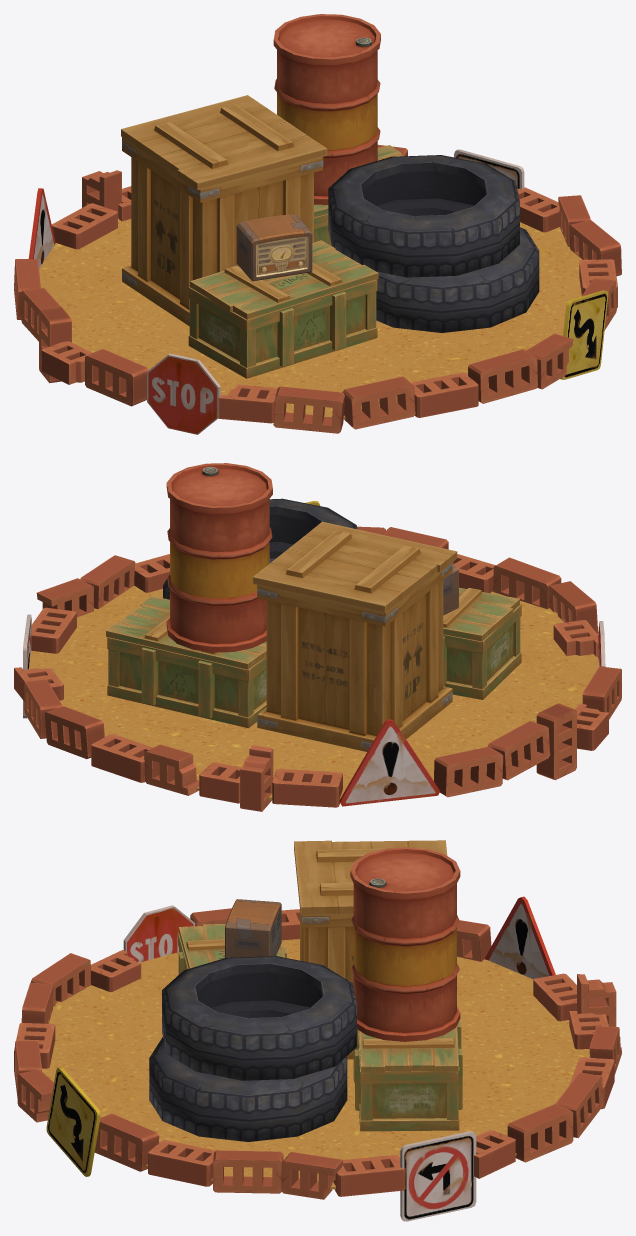
The model's file is Props.FBX.
3 renders of one model, top to bottom at view 1: azimuth 30°, elevation 25°; view 2: azimuth 150°, elevation 25°; view 3: azimuth 270°, elevation 25°, orthographic. The views are drawn at different scales.
Visible parts, largest first — view 1: Boxes, Bricks, Tires, Sand, Barrel, Signs, Radio; view 2: Boxes, Bricks, Sand, Barrel, Signs, Tires, Radio; view 3: Sand, Bricks, Tires, Boxes, Barrel, Signs, Radio.
Boxes of the visible parts, left/top/right/bottom form: Boxes: left=121, top=95, right=403, bottom=378; Bricks: left=14, top=144, right=621, bottom=433; Tires: left=328, top=155, right=539, bottom=332; Sand: left=39, top=217, right=588, bottom=418; Barrel: left=273, top=14, right=380, bottom=204; Signs: left=28, top=149, right=608, bottom=434; Radio: left=236, top=214, right=312, bottom=281; Boxes: left=106, top=521, right=521, bottom=751; Bricks: left=14, top=526, right=621, bottom=811; Sand: left=29, top=585, right=599, bottom=799; Barrel: left=166, top=463, right=272, bottom=652; Signs: left=23, top=501, right=605, bottom=806; Tires: left=163, top=498, right=357, bottom=599; Radio: left=443, top=565, right=458, bottom=615; Sand: left=42, top=939, right=589, bottom=1189; Bricks: left=14, top=908, right=621, bottom=1199; Tires: left=149, top=956, right=356, bottom=1141; Boxes: left=178, top=840, right=462, bottom=1131; Barrel: left=350, top=847, right=460, bottom=1041; Signs: left=46, top=896, right=555, bottom=1221; Radio: left=225, top=899, right=281, bottom=957.
Size of the model in its own units: 489 by 213 by 459.
Materials: 7 (7 with a texture image).
